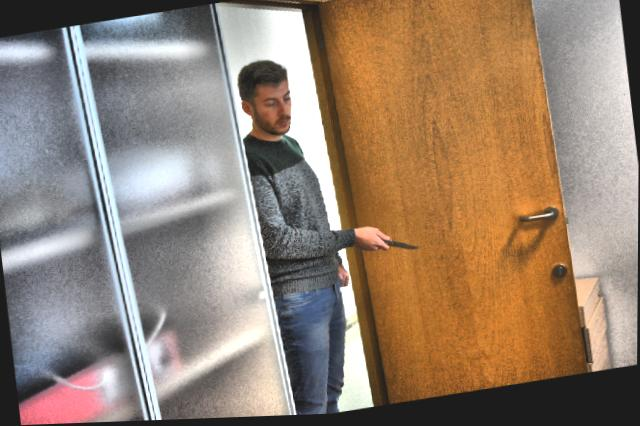knife: (374, 232, 423, 262)
